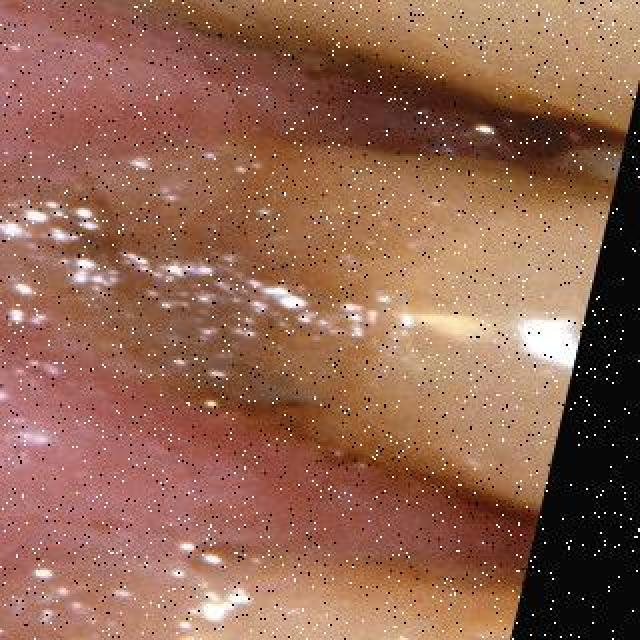calculus: (0, 148, 354, 448), (294, 0, 634, 266), (262, 402, 536, 640), (0, 0, 248, 22)
